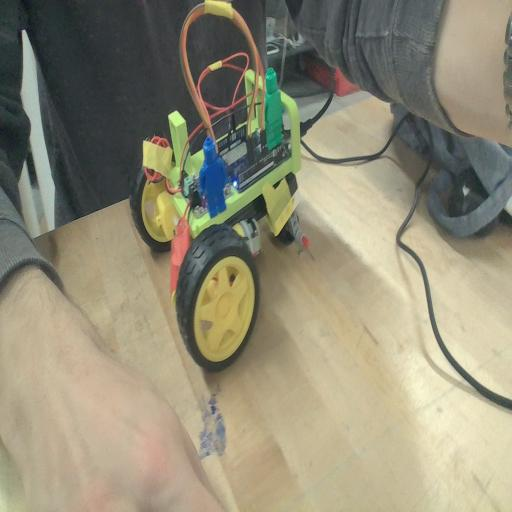blue LEGO minifig: (196, 134, 232, 220)
green LEGO minifig: (259, 65, 289, 151)
